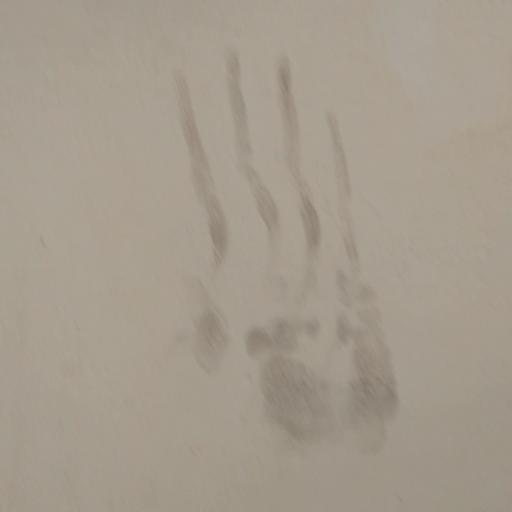stain: (119, 39, 419, 479)
